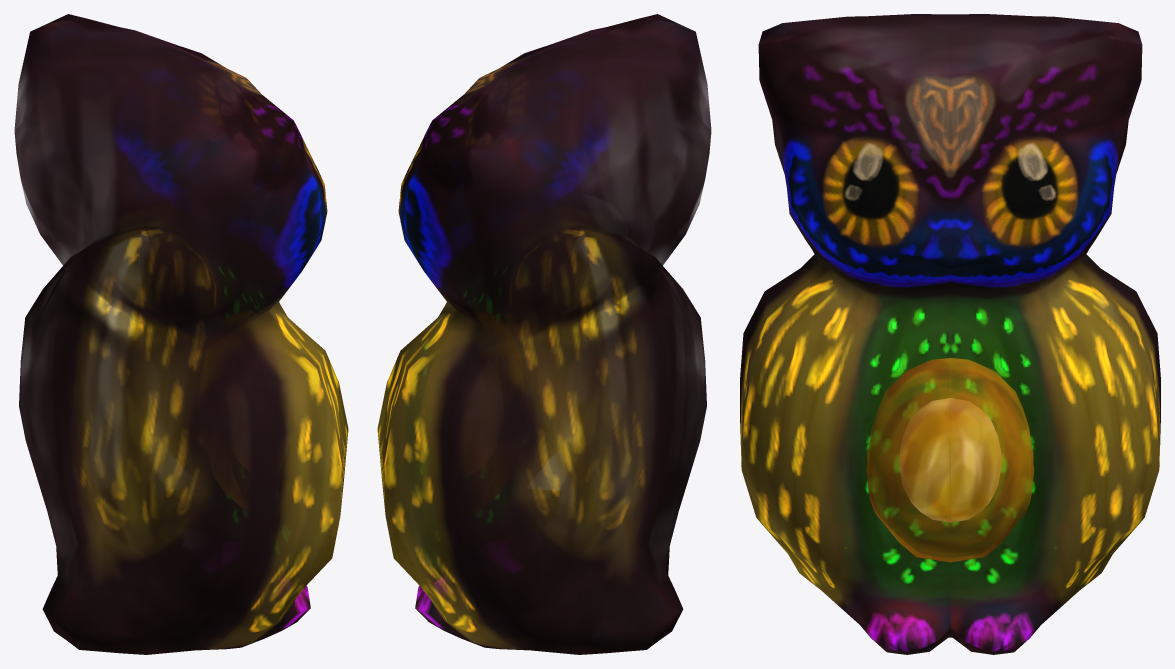
Rendered from owl_939d2bc7.glb.
3 views of the same model, side by side, from view 1: azimuth 30°, elevation 25°; view 2: azimuth 150°, elevation 25°; view 3: azimuth 270°, elevation 25° (orthographic). The views are drawn at different scales.
Parts seen in each view (by area): view 1: Object_3, Object_4; view 2: Object_3, Object_4; view 3: Object_3, Object_4, Object_2.
Part boxes in pixels (bbox=[...]): Object_3: bbox=[14, 14, 348, 654]; Object_4: bbox=[200, 345, 240, 504]; Object_3: bbox=[377, 14, 711, 654]; Object_4: bbox=[419, 326, 525, 501]; Object_3: bbox=[740, 14, 1160, 654]; Object_4: bbox=[866, 357, 1034, 562]; Object_2: bbox=[899, 398, 1001, 522].
Bounding box in the file's own units: 0.1391 × 0.2991 × 0.1951.
3 materials, 3 textured.
